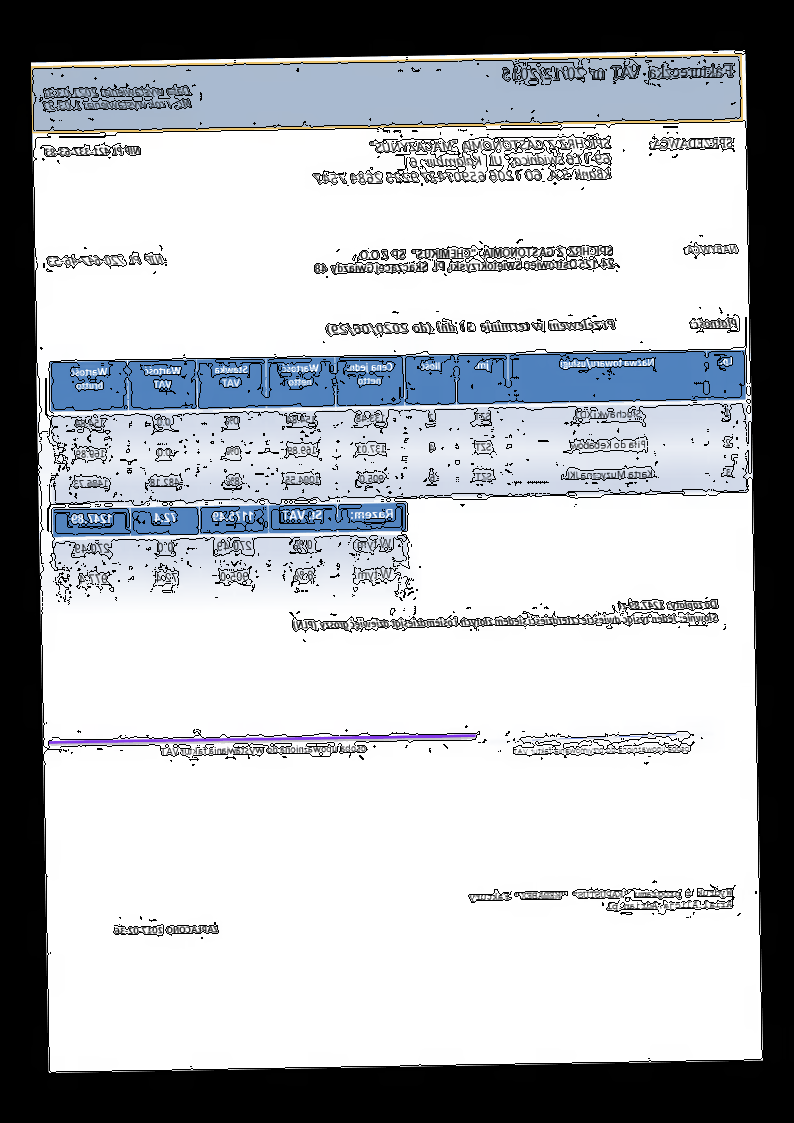Table: (50, 348, 750, 503), (51, 501, 409, 601)
TextBox: (310, 134, 615, 189), (292, 596, 720, 634), (312, 242, 618, 278), (467, 886, 736, 914), (501, 60, 735, 84), (325, 317, 616, 336), (40, 82, 193, 114), (158, 742, 369, 760), (511, 741, 691, 757), (46, 252, 166, 269), (113, 921, 222, 937), (42, 142, 143, 159), (647, 135, 736, 153), (689, 315, 740, 331), (682, 242, 739, 256)
